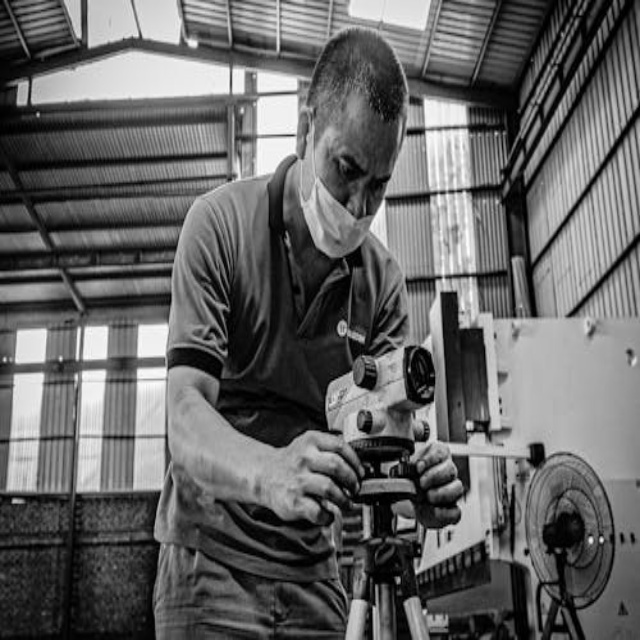Mascara: (299, 116, 377, 257)
Sin_gafas: (335, 146, 393, 202)
Sin_guantes: (269, 411, 370, 546), (400, 437, 463, 530)
